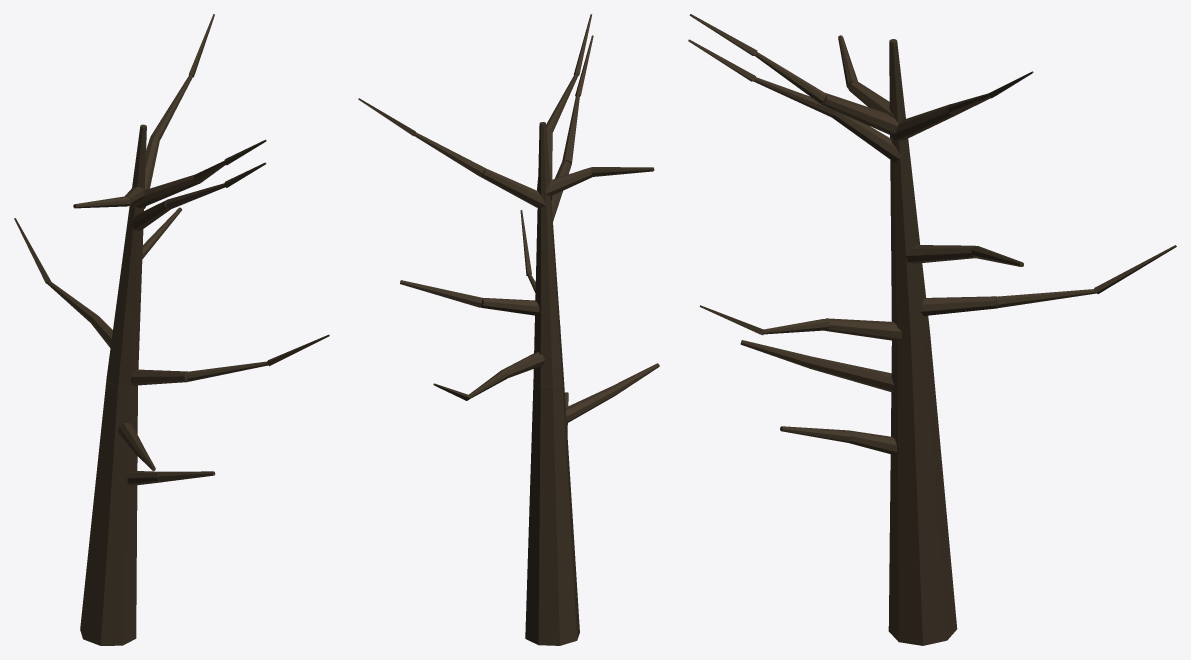
File: tree_dead_2.glb
The picture shows the model from 3 angles, left to right: view 1: azimuth 30°, elevation 25°; view 2: azimuth 150°, elevation 25°; view 3: azimuth 270°, elevation 25°; orthographic projection. The views are drawn at different scales.
Parts seen in each view (by area): view 1: wood; view 2: wood; view 3: wood.
Part boxes in pixels (x1,y1,x2,y2): wood: (14, 14, 329, 645); wood: (358, 14, 659, 645); wood: (688, 14, 1176, 645).
Bounding box in the file's own units: 3 × 7.14 × 4.85.
